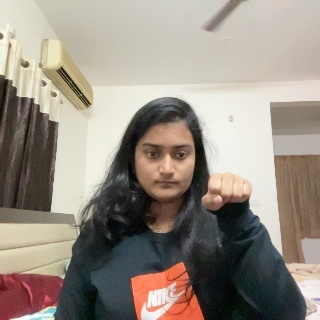Face: (135, 106, 194, 202)
Yes: (203, 170, 254, 240)
